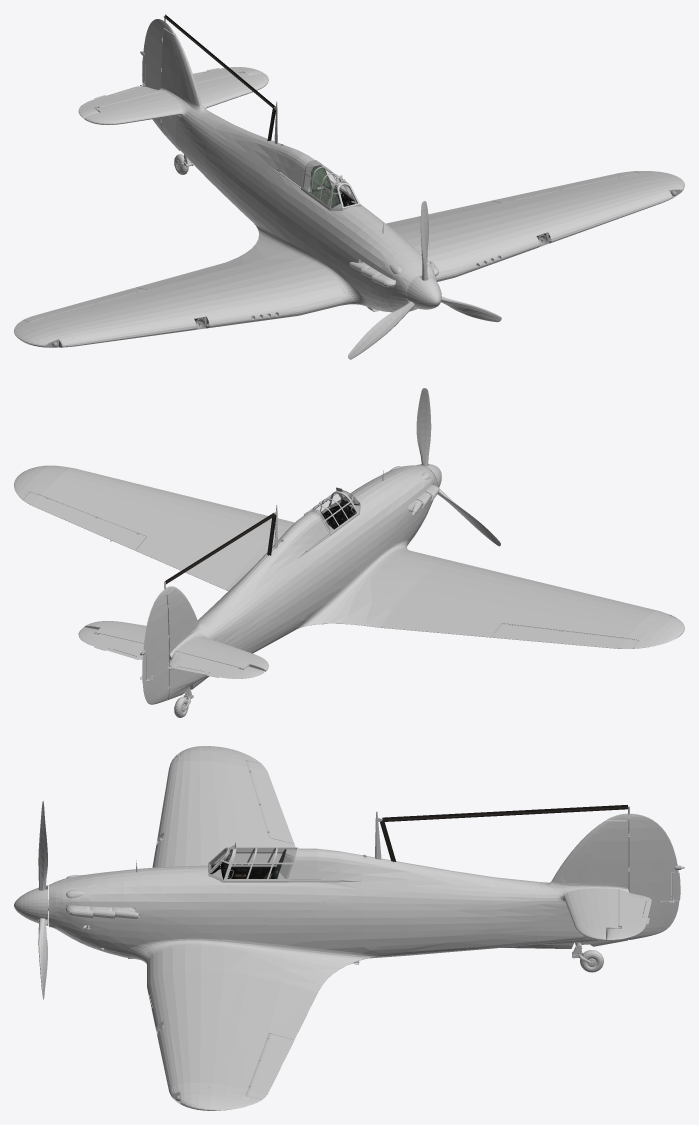
File: Hurricane_Mk_I_L.obj
The picture shows the model from 3 angles, top to bottom: view 1: azimuth 30°, elevation 25°; view 2: azimuth 150°, elevation 25°; view 3: azimuth 270°, elevation 25°; orthographic projection. The views are drawn at different scales.
Visible parts, largest first — view 1: vehicle#fuse_1, vehicle#wing_r_46, vehicle#wing_l_6, vehicle#tail_36, vehicle#prop01_1_35, vehicle#rudder_39, vehicle#blister1_3, vehicle#elevator1_38, vehicle#aileron_l_7, vehicle#aileron_r_47, vehicle#antenna_40, vehicle#elevator0_37; view 2: vehicle#fuse_1, vehicle#wing_r_46, vehicle#wing_l_6, vehicle#tail_36, vehicle#rudder_39, vehicle#aileron_l_7, vehicle#aileron_r_47, vehicle#prop01_1_35, vehicle#elevator1_38, vehicle#blister1_3, vehicle#elevator0_37, vehicle#antenna_40; view 3: vehicle#fuse_1, vehicle#wing_l_6, vehicle#tail_36, vehicle#wing_r_46, vehicle#rudder_39, vehicle#blister1_3, vehicle#prop01_1_35, vehicle#aileron_r_47, vehicle#aileron_l_7, vehicle#antenna_40, vehicle#elevator0_37.
Boxes of the visible parts, left/top/right/bottom form: vehicle#fuse_1: left=221, top=101, right=456, bottom=315; vehicle#wing_r_46: left=14, top=262, right=300, bottom=347; vehicle#wing_l_6: left=386, top=171, right=684, bottom=277; vehicle#tail_36: left=84, top=28, right=268, bottom=195; vehicle#prop01_1_35: left=348, top=201, right=501, bottom=359; vehicle#rudder_39: left=140, top=15, right=174, bottom=132; vehicle#blister1_3: left=301, top=160, right=353, bottom=209; vehicle#elevator1_38: left=78, top=86, right=162, bottom=118; vehicle#aileron_l_7: left=491, top=171, right=638, bottom=202; vehicle#aileron_r_47: left=23, top=287, right=145, bottom=321; vehicle#antenna_40: left=164, top=14, right=275, bottom=141; vehicle#elevator0_37: left=193, top=67, right=264, bottom=83; vehicle#fuse_1: left=225, top=465, right=450, bottom=648; vehicle#wing_r_46: left=380, top=560, right=684, bottom=648; vehicle#wing_l_6: left=14, top=465, right=294, bottom=589; vehicle#tail_36: left=84, top=583, right=268, bottom=700; vehicle#rudder_39: left=140, top=582, right=174, bottom=704; vehicle#aileron_l_7: left=23, top=492, right=146, bottom=550; vehicle#aileron_r_47: left=491, top=623, right=639, bottom=648; vehicle#prop01_1_35: left=416, top=388, right=500, bottom=546; vehicle#elevator1_38: left=170, top=651, right=264, bottom=678; vehicle#blister1_3: left=304, top=491, right=358, bottom=535; vehicle#elevator0_37: left=78, top=627, right=143, bottom=659; vehicle#antenna_40: left=164, top=513, right=276, bottom=584; vehicle#fuse_1: left=49, top=811, right=452, bottom=992; vehicle#wing_l_6: left=147, top=970, right=317, bottom=1110; vehicle#tail_36: left=452, top=820, right=629, bottom=951; vehicle#wing_r_46: left=152, top=746, right=295, bottom=867; vehicle#rudder_39: left=607, top=806, right=684, bottom=939; vehicle#blister1_3: left=224, top=847, right=298, bottom=882; vehicle#prop01_1_35: left=14, top=801, right=48, bottom=999; vehicle#aileron_r_47: left=246, top=761, right=294, bottom=843; vehicle#aileron_l_7: left=245, top=1033, right=294, bottom=1099; vehicle#antenna_40: left=380, top=805, right=627, bottom=862; vehicle#elevator0_37: left=606, top=889, right=651, bottom=940.
Bounding box in the file's own units: 12.16 × 2.73 × 9.49.
